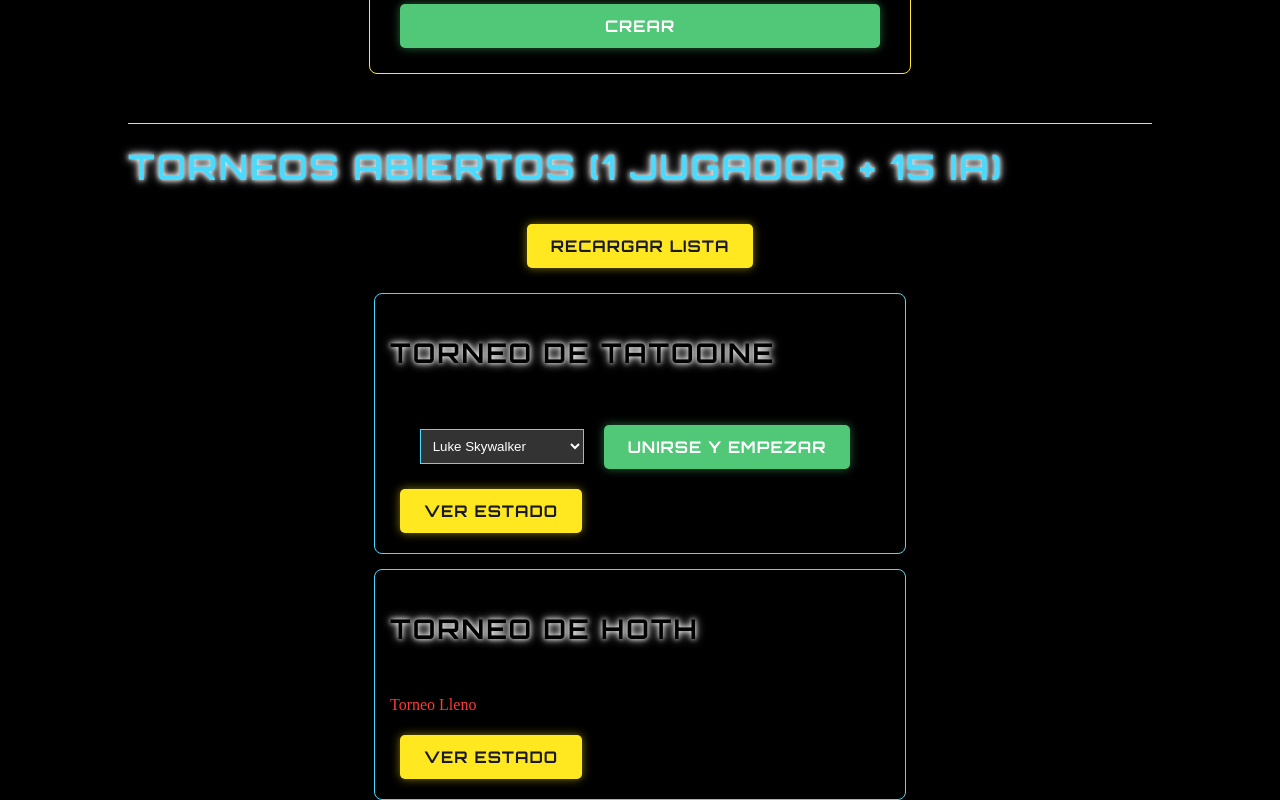
Test: Componente TournamentDashboard › 3. Clica en "Ver Estado" y muestra los detalles del torneo
(page scrolled)
Click the button "Ver Estado" below "Torneo de Tatooine": (491, 511) [400, 489, 582, 533]
(page scrolled)
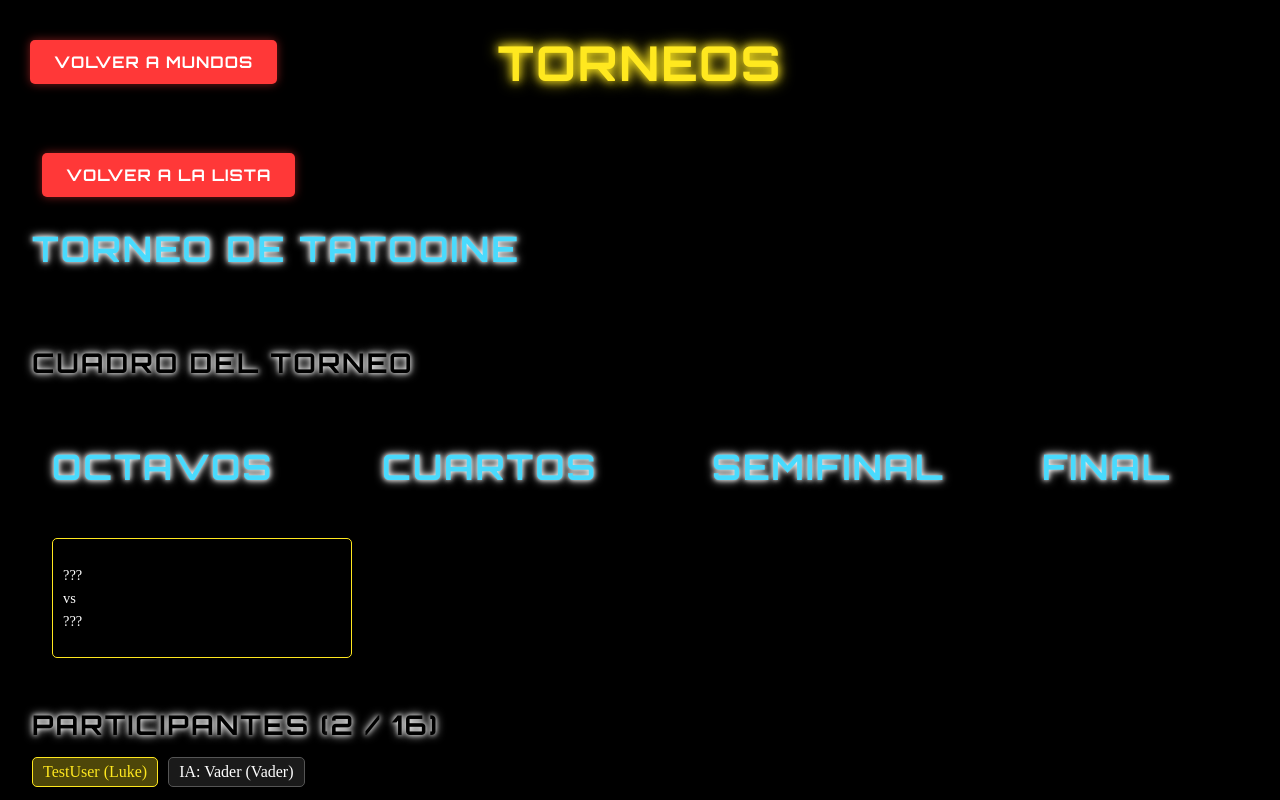
Result: the heading "Cuadro del Torneo" is shown at [32, 346, 414, 380]
Result: the text "IA: Vader (Vader)" is shown at [168, 757, 304, 787]
Result: the text "TestUser (Luke)" is shown at [32, 757, 158, 787]
